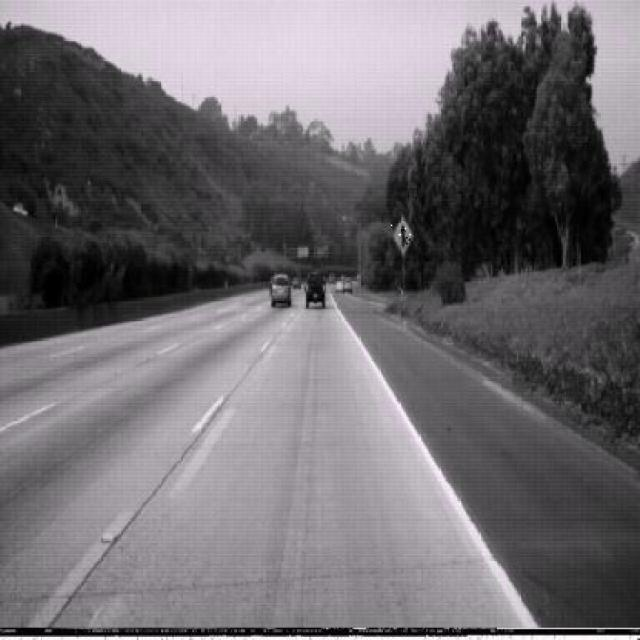merge: (391, 216, 413, 256)
